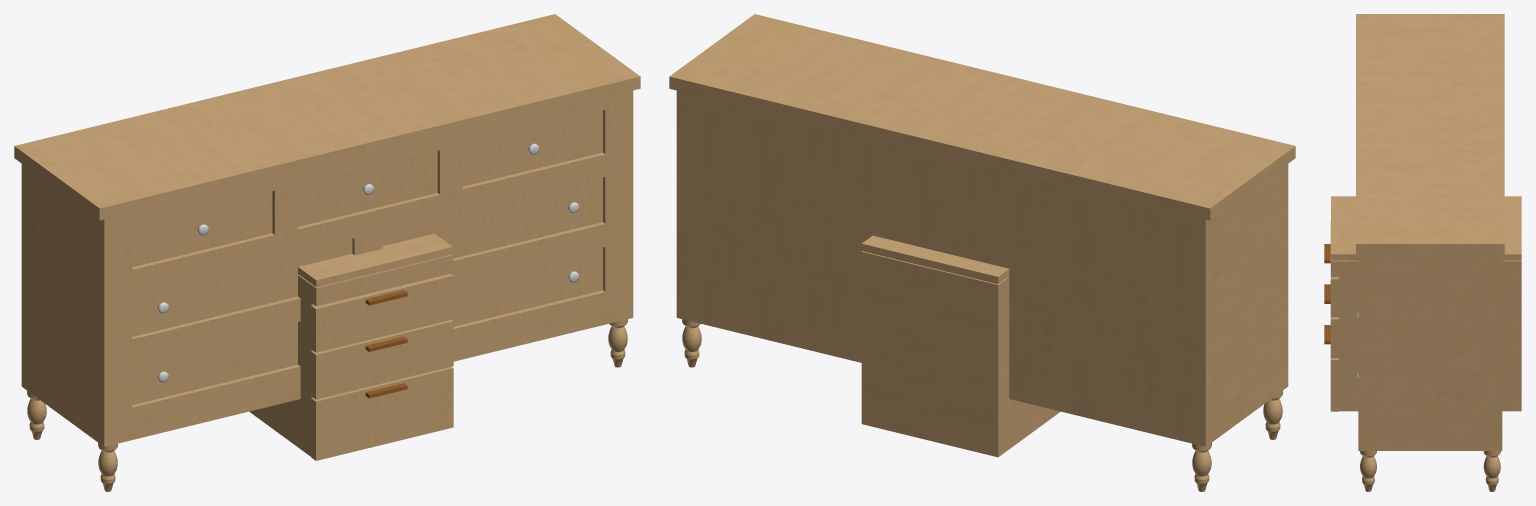
Rendered from drawer-set.glb.
3 views of the same model, side by side, from view 1: azimuth 30°, elevation 25°; view 2: azimuth 150°, elevation 25°; view 3: azimuth 270°, elevation 25° (orthographic). The views are drawn at different scales.
Visible parts, largest first — view 1: Drawer35_Body, Drawer35_4, Drawer35_5, Drawer35_6, Drawer35_7, Drawer35_1, Drawer35_3, Drawer35_2, Drawer_Body01, Drawer01_3, Drawer01_2, Drawer01_1; view 2: Drawer35_Body, Drawer_Body01; view 3: Drawer35_Body, Drawer_Body01, Drawer01_3, Drawer01_1, Drawer01_2.
Part boxes in pixels (<box>): Drawer35_Body: <box>14,14,640,491</box>; Drawer35_4: <box>123,227,363,350</box>; Drawer35_5: <box>374,166,614,269</box>; Drawer35_6: <box>123,312,300,418</box>; Drawer35_7: <box>451,236,614,337</box>; Drawer35_1: <box>123,179,283,280</box>; Drawer35_3: <box>454,98,614,200</box>; Drawer35_2: <box>289,139,448,240</box>; Drawer_Body01: <box>249,233,452,456</box>; Drawer01_3: <box>311,366,453,460</box>; Drawer01_2: <box>311,320,453,399</box>; Drawer01_1: <box>311,273,453,352</box>; Drawer35_Body: <box>669,14,1295,491</box>; Drawer_Body01: <box>861,235,1060,457</box>; Drawer35_Body: <box>1356,14,1504,491</box>; Drawer_Body01: <box>1331,196,1521,411</box>; Drawer01_3: <box>1324,325,1338,411</box>; Drawer01_1: <box>1324,221,1338,317</box>; Drawer01_2: <box>1324,284,1338,358</box>.
Size of the model in its own units: 2.08 by 1.07 by 0.7568.
Materials: 1 (1 with a texture image).
